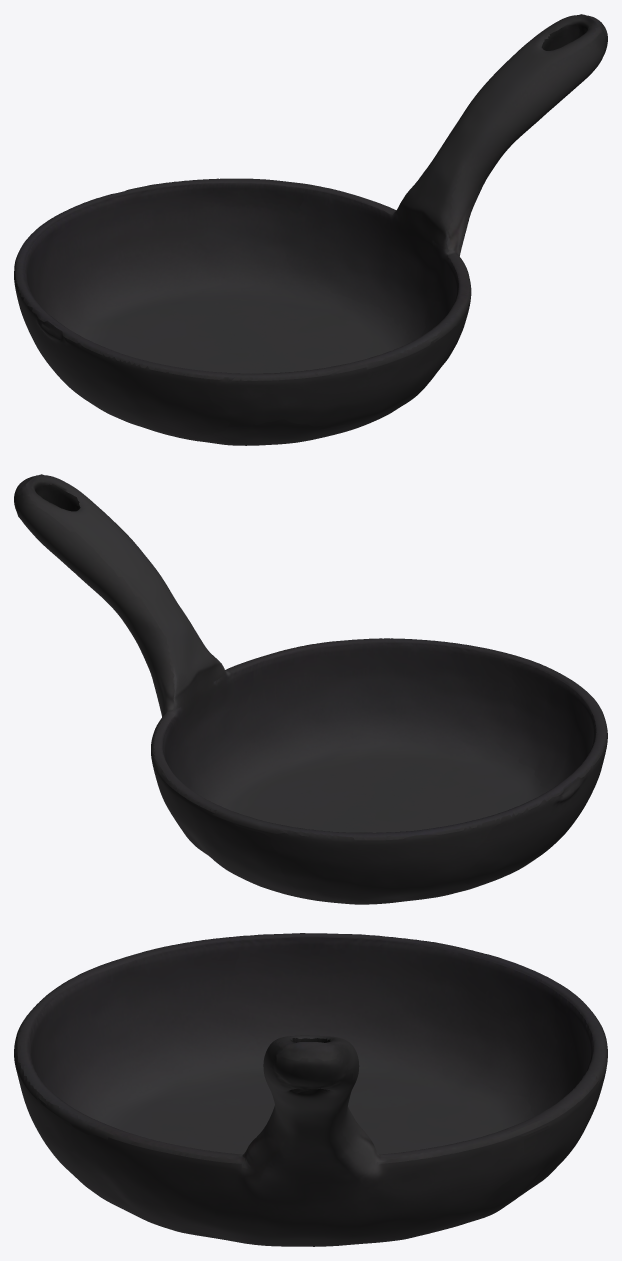
3 renders of one model, top to bottom at view 1: azimuth 30°, elevation 25°; view 2: azimuth 150°, elevation 25°; view 3: azimuth 270°, elevation 25°, orthographic. The views are drawn at different scales.
Visible parts, largest first — view 1: tmp2twzj7ka.ply; view 2: tmp2twzj7ka.ply; view 3: tmp2twzj7ka.ply.
Boxes of the visible parts, bbox=[...] form: tmp2twzj7ka.ply: bbox=[14, 14, 607, 445]; tmp2twzj7ka.ply: bbox=[14, 474, 607, 904]; tmp2twzj7ka.ply: bbox=[14, 933, 607, 1246].
Bounding box in the file's own units: 197 × 91.01 × 148.
1 material, 1 textured.
